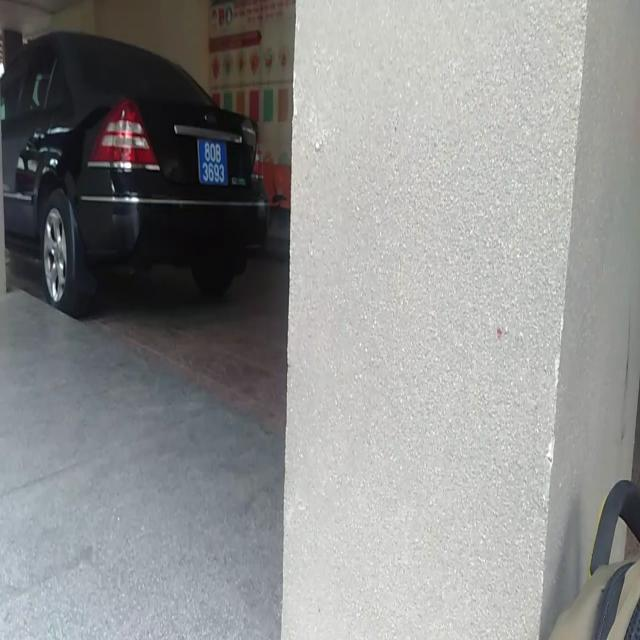bien_xanh: (195, 129, 229, 196)
